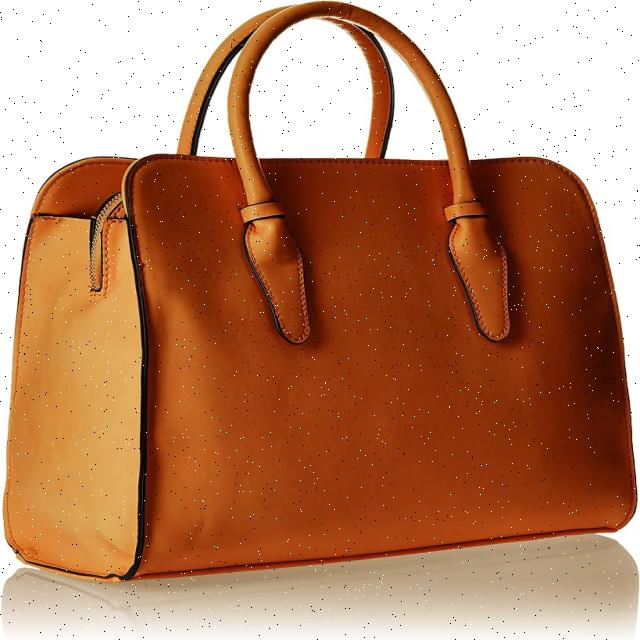handbag: (2, 0, 637, 582)
